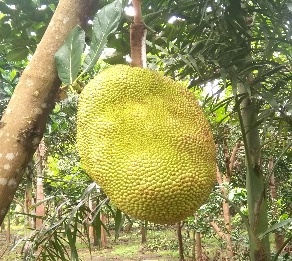Mit: (77, 64, 219, 224)
